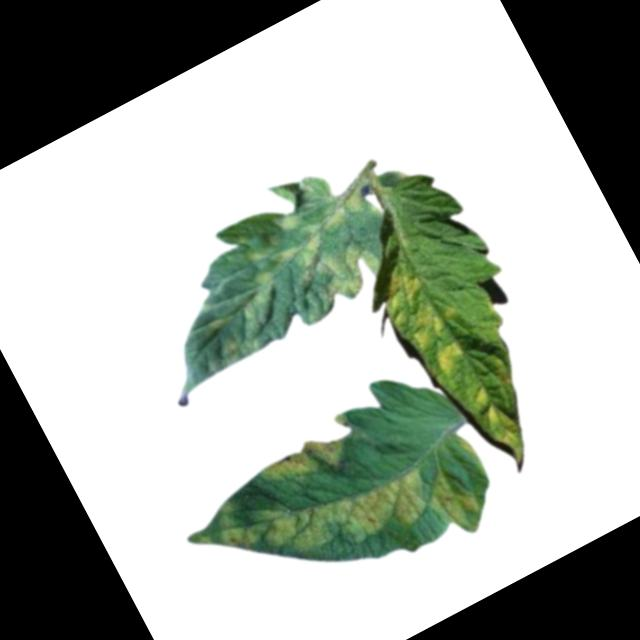Leaf_Mold: (206, 396, 489, 636), (279, 187, 404, 311), (257, 427, 352, 503), (467, 378, 538, 476), (398, 293, 467, 354), (368, 261, 432, 323), (231, 265, 285, 320), (424, 333, 474, 384), (271, 244, 299, 271)
